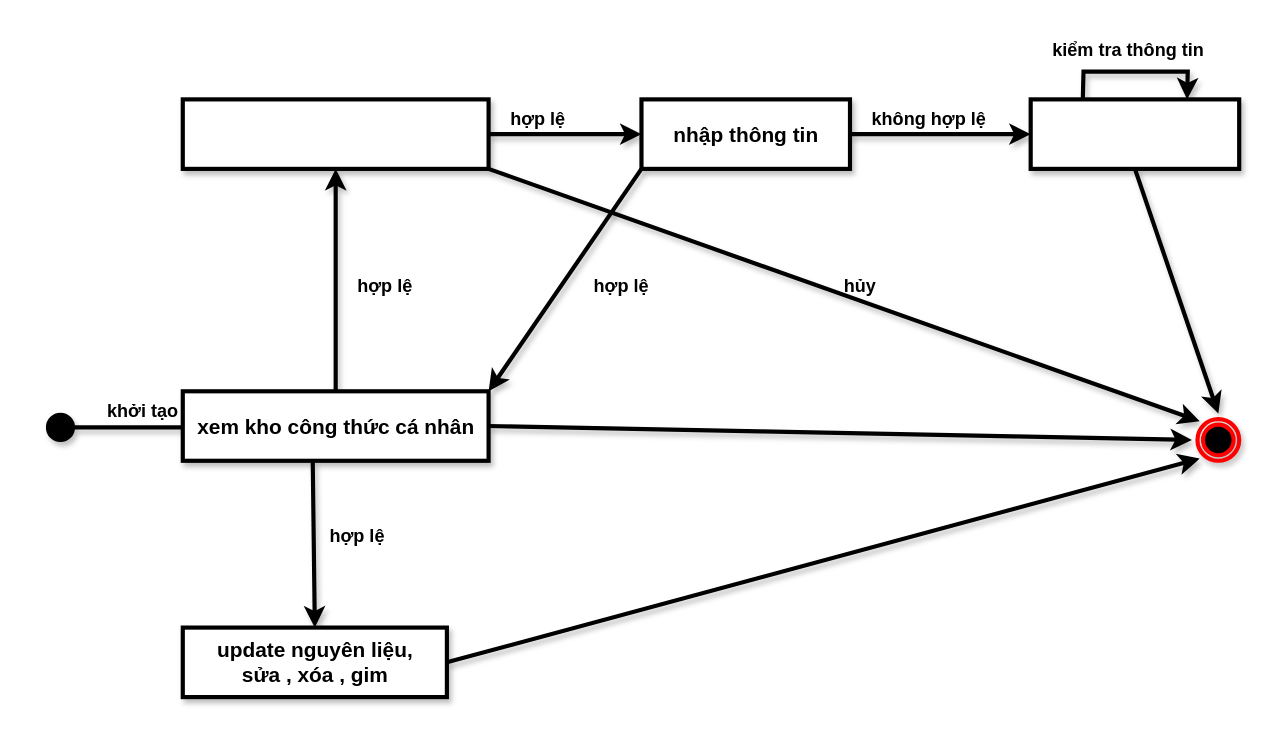
The diagram is 1273 pixels wide and 733 high, and some of its shapes have lost their labels. The centre of each missing label's shape, as x and y in pixels:
"nhập lại thông tin" belongs at (1135,135).
"thêm công thức cá nhân" belongs at (336,135).
